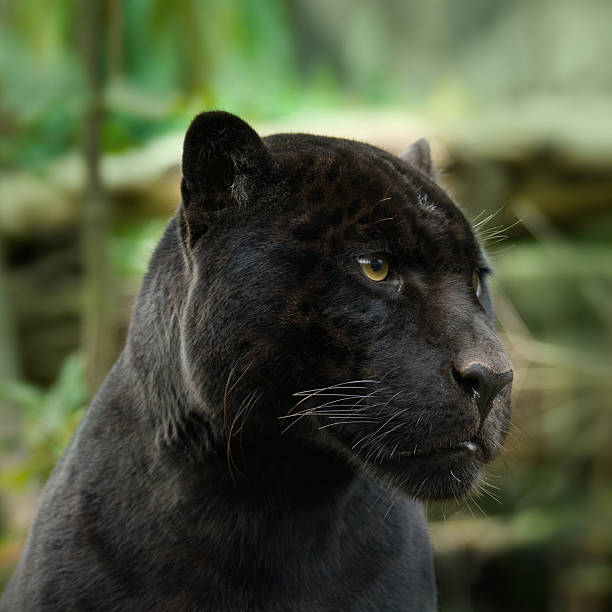panther: (115, 94, 550, 547)
